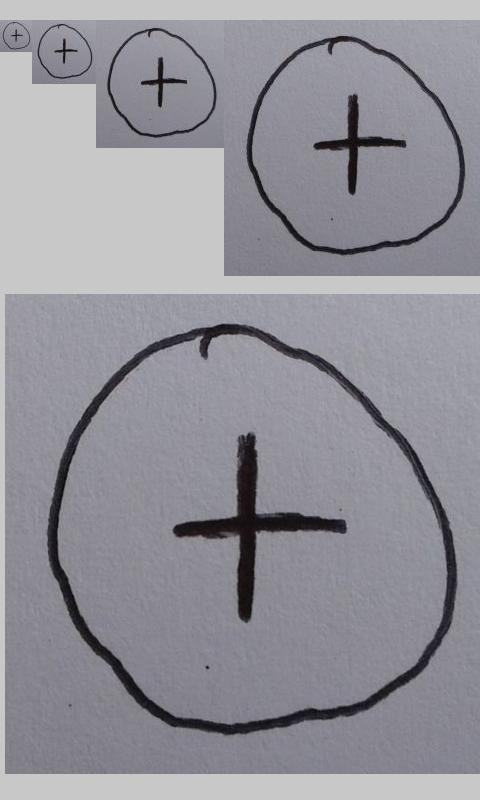button: (46, 323, 458, 737), (245, 36, 466, 255), (106, 27, 219, 138), (37, 24, 94, 79), (2, 22, 31, 50)
